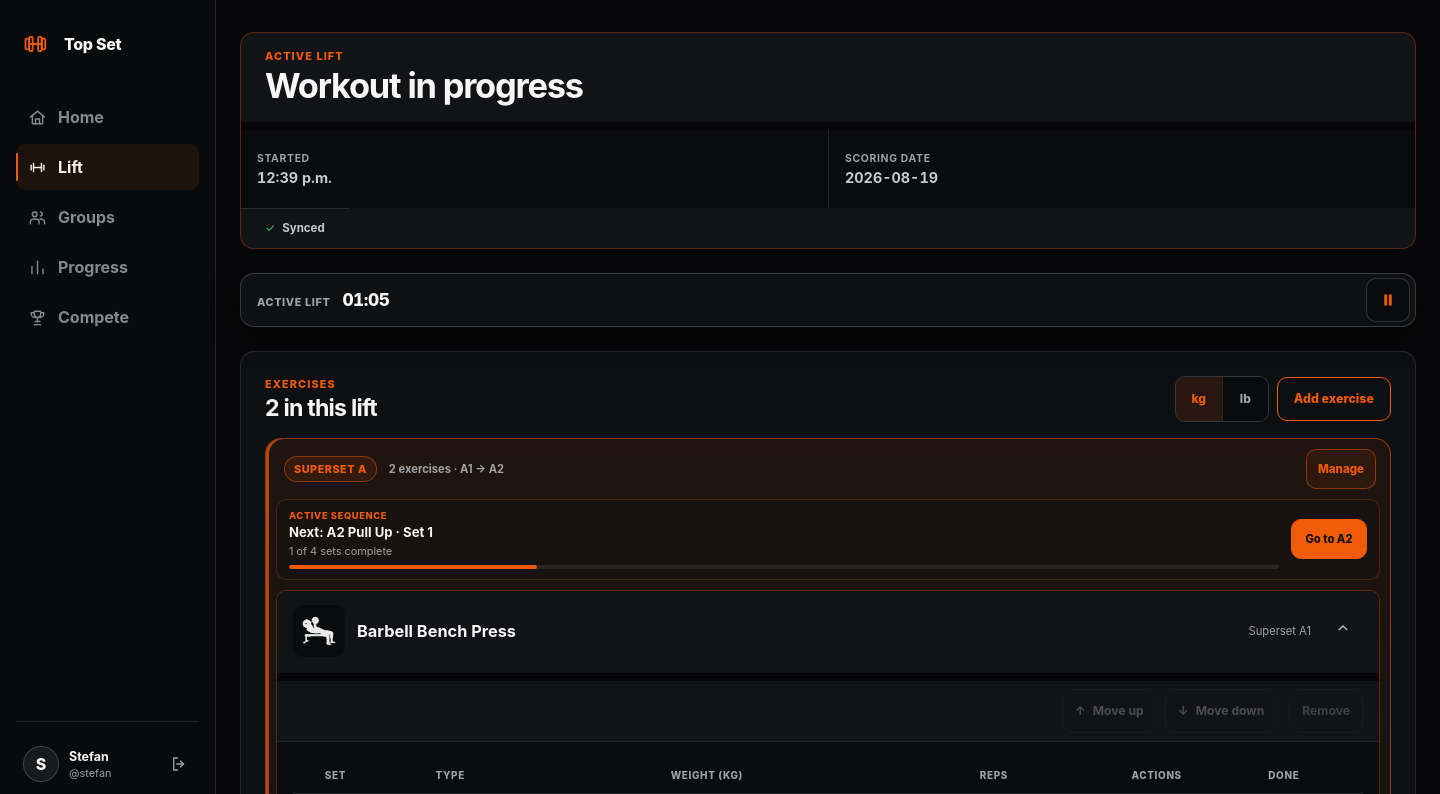
Test: workout session presentation › guides an active Superset round-robin without forcing navigation
Check: the text "Next: A2 Pull Up · Set 1" is shown, box [289,524,433,540]
Check: the text "1 of 4 sets complete" is shown, box [289,544,392,558]
What coordinates should you click on to do the following:
click the button with aria-label "Go to A2 Pull Up"
I would click on:
 (1329, 539)
Its box is [1291,519,1367,559].
(page scrolled)
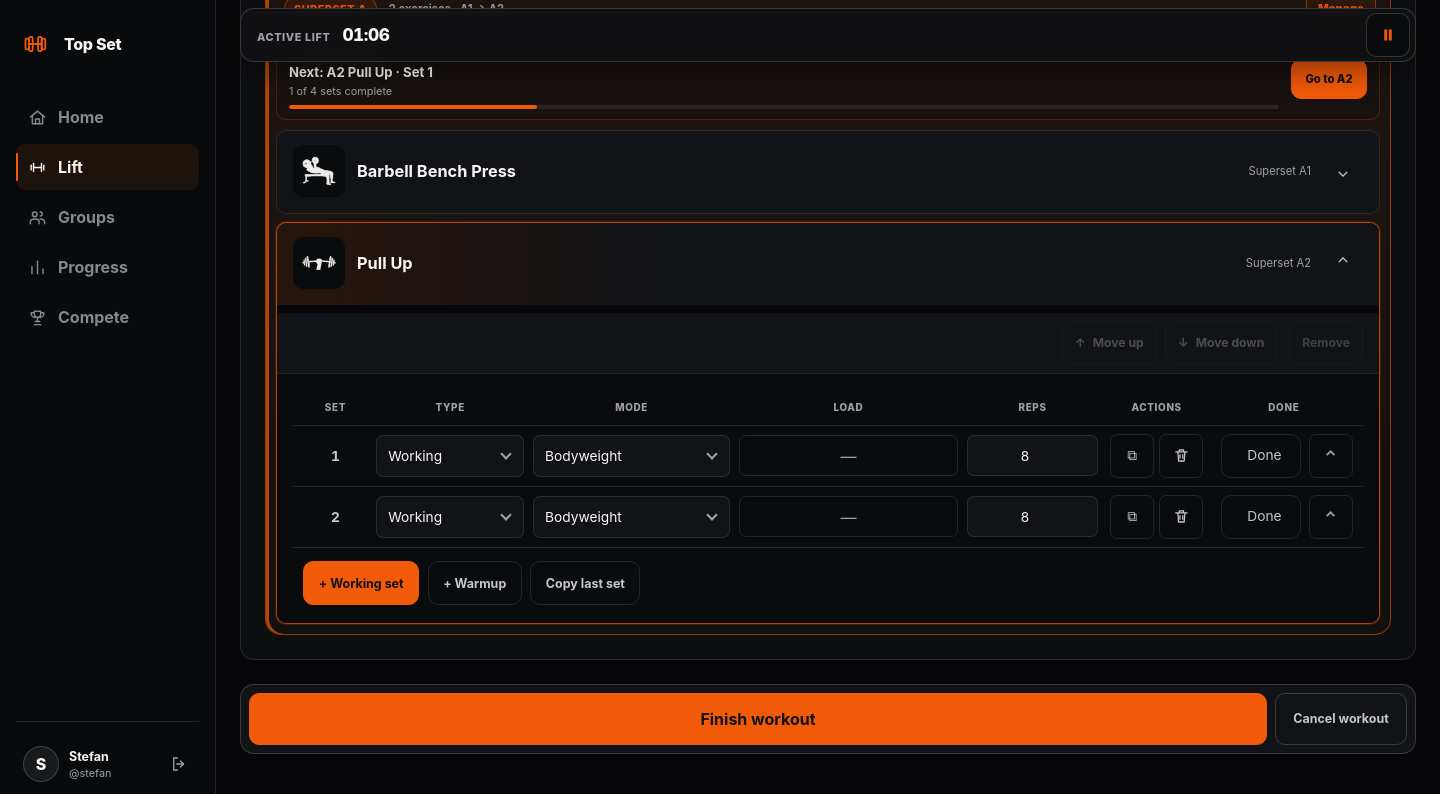
Check: the button "Pull Up Superset A2 ⌃" is expanded, box [293,235,1363,291]
Check: the button "Barbell Bench Press Superset A1 ⌄" is collapsed, box [293,143,1363,199]
